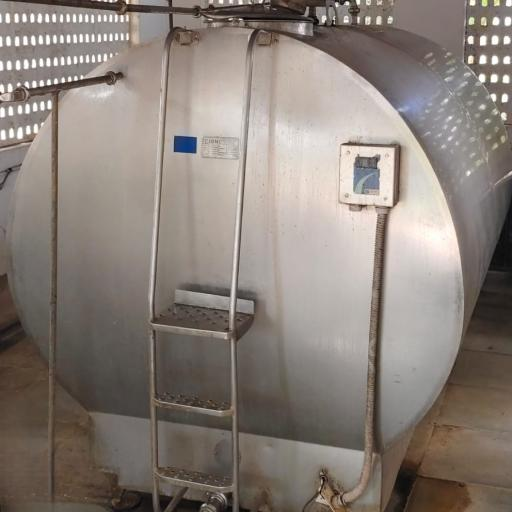silo: (6, 5, 511, 511)
